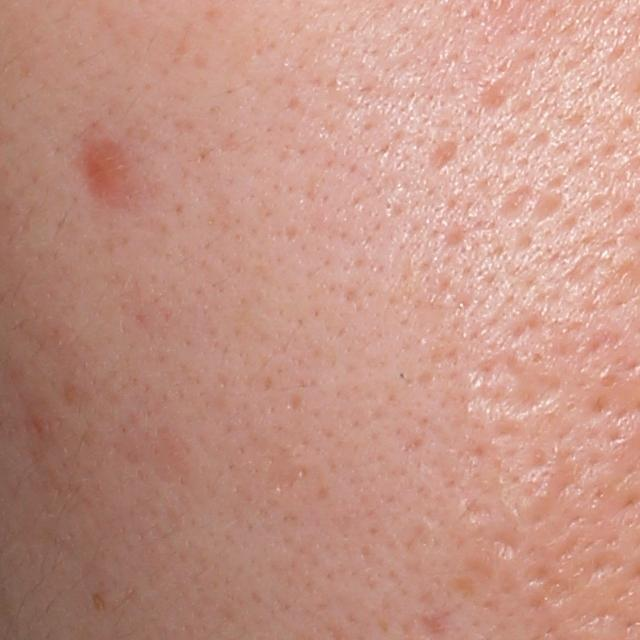atrophic_scar: (464, 347, 566, 430), (474, 515, 524, 564), (523, 558, 574, 604), (470, 69, 511, 123), (265, 447, 309, 495), (494, 177, 534, 217), (532, 187, 569, 222), (425, 140, 457, 169)
papule: (71, 137, 128, 205)
